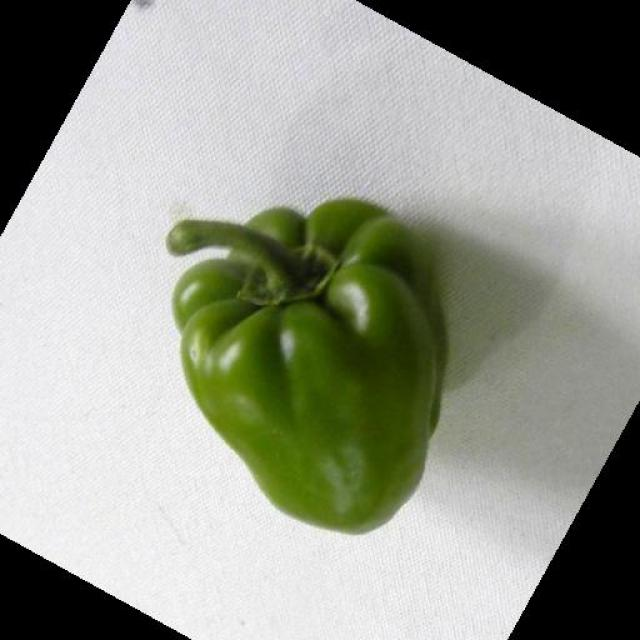Fresh_Capsicum: (175, 204, 438, 533)
